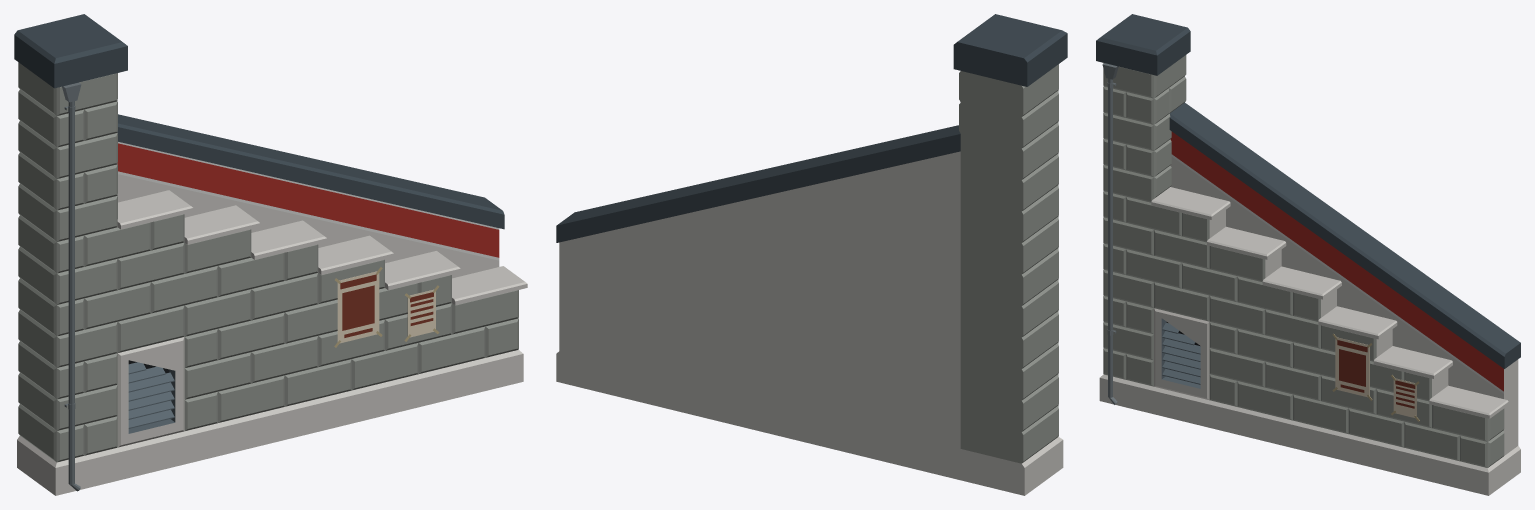
The model's file is stand-gable-end-53847a.glb.
3 renders of one model, left to right at view 1: azimuth 30°, elevation 25°; view 2: azimuth 150°, elevation 25°; view 3: azimuth 330°, elevation 25°, orthographic. The views are drawn at different scales.
Parts seen in each view (by area): view 1: gable, poster-mesh, fixture-card-mesh; view 2: gable; view 3: gable, poster-mesh, fixture-card-mesh.
Boxes of the visible parts, x1,y1,x2,y2 form: gable: (14, 14, 527, 495); poster-mesh: (334, 267, 382, 347); fixture-card-mesh: (404, 285, 439, 341); gable: (556, 14, 1067, 495); gable: (1096, 14, 1520, 495); poster-mesh: (1332, 334, 1372, 400); fixture-card-mesh: (1391, 375, 1419, 421).
Bounding box in the file's own units: 7.08 × 6.25 × 1.08.
